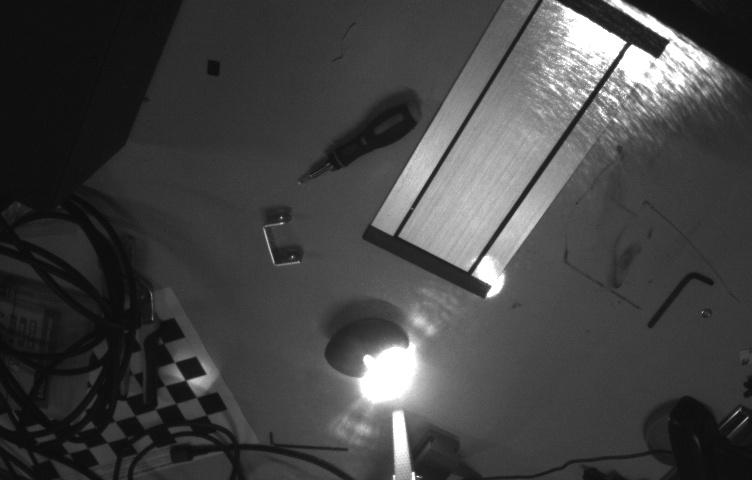Object toy football - Material foam - Color blue - Pdfname VT1ffZoLOnKv: (352, 327, 399, 390)
